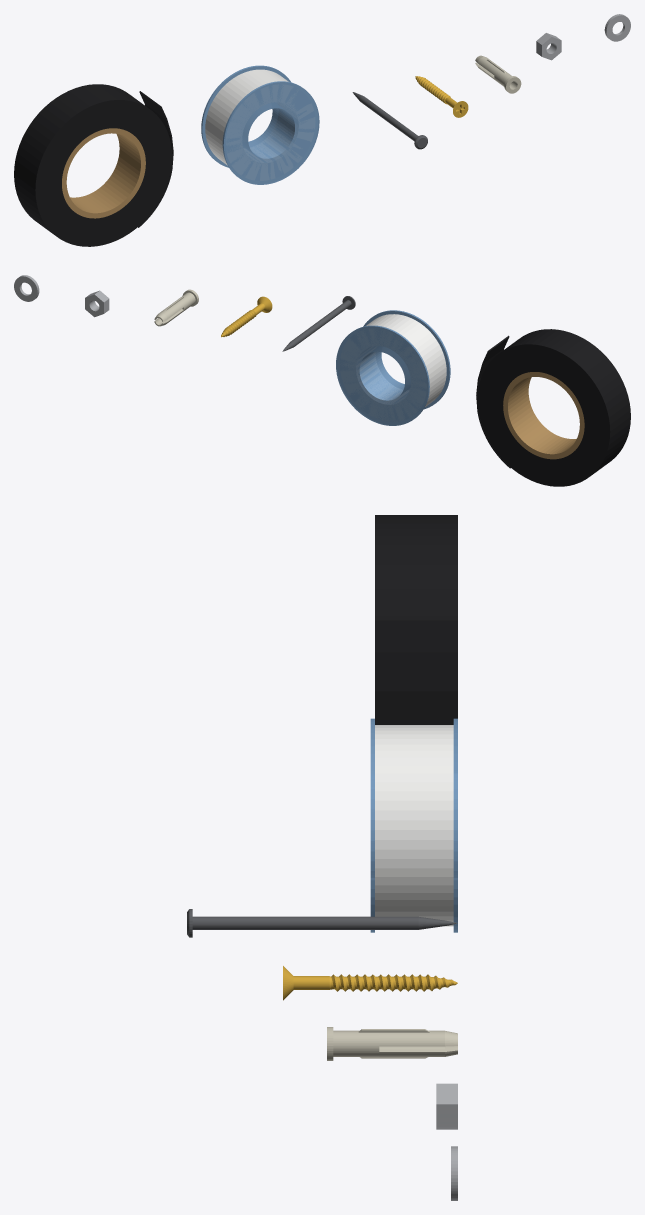
File: todos_os_blocos.obj
3 renders of one model, top to bottom at view 1: azimuth 30°, elevation 25°; view 2: azimuth 150°, elevation 25°; view 3: azimuth 270°, elevation 25°, orthographic. The views are drawn at different scales.
Visible parts, largest first — view 1: fita_isolante_19mm, fita_veda_rosca_18mm, bucha_nylon_6mm, prego_17x27_3_0_x_62mm, parafuso_4_0_x_40mm_phillips, porca_sextavada_m6, arruela_lisa_m6; view 2: fita_isolante_19mm, fita_veda_rosca_18mm, bucha_nylon_6mm, prego_17x27_3_0_x_62mm, parafuso_4_0_x_40mm_phillips, porca_sextavada_m6, arruela_lisa_m6; view 3: fita_isolante_19mm, fita_veda_rosca_18mm, bucha_nylon_6mm, prego_17x27_3_0_x_62mm, parafuso_4_0_x_40mm_phillips, porca_sextavada_m6.
Part boxes in pixels (x1,y1,x2,y2): fita_isolante_19mm: (14,84,173,246); fita_veda_rosca_18mm: (201,65,319,184); bucha_nylon_6mm: (475,55,521,93); prego_17x27_3_0_x_62mm: (352,92,427,149); parafuso_4_0_x_40mm_phillips: (415,76,468,117); porca_sextavada_m6: (536,33,561,60); arruela_lisa_m6: (604,14,630,41); fita_isolante_19mm: (476,329,630,486); fita_veda_rosca_18mm: (336,310,450,425); bucha_nylon_6mm: (154,289,198,326); prego_17x27_3_0_x_62mm: (282,296,355,351); parafuso_4_0_x_40mm_phillips: (221,296,272,337); porca_sextavada_m6: (85,290,109,317); arruela_lisa_m6: (14,275,39,301); fita_isolante_19mm: (375,515,457,724); fita_veda_rosca_18mm: (370,718,457,932); bucha_nylon_6mm: (327,1027,457,1060); prego_17x27_3_0_x_62mm: (187,909,457,937); parafuso_4_0_x_40mm_phillips: (283,966,457,1000); porca_sextavada_m6: (436,1083,457,1129).
Bounding box in the file's own units: 315 × 70 × 62.
